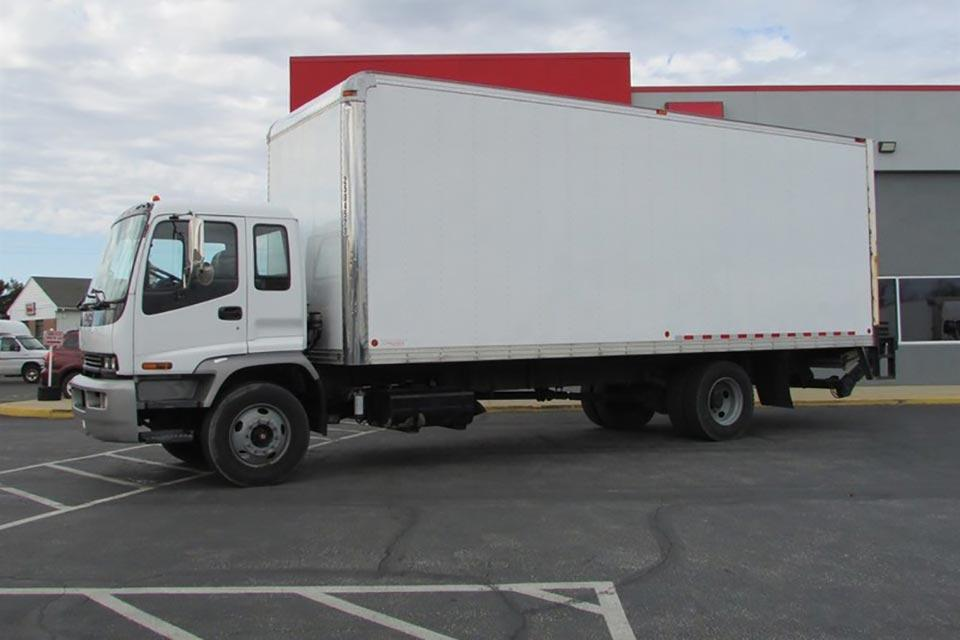truck: (69, 69, 880, 490)
van: (1, 319, 48, 382)
